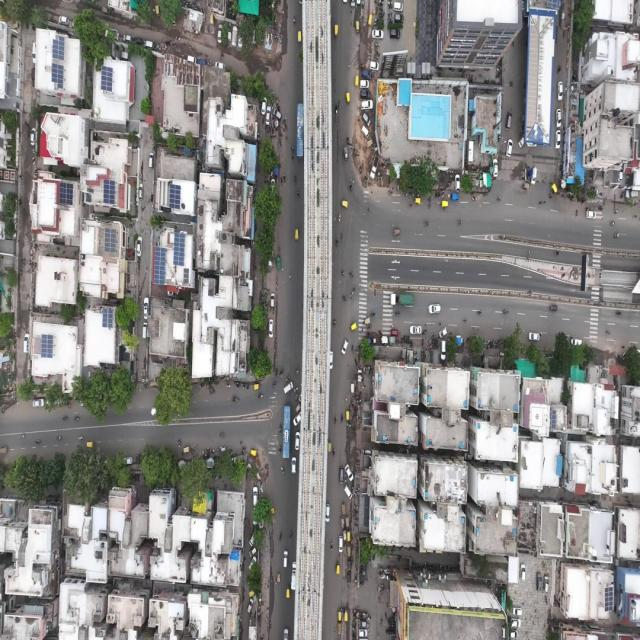3W: (547, 301, 561, 317), (344, 541, 354, 562), (353, 16, 362, 35), (293, 224, 302, 242), (341, 196, 351, 212), (336, 556, 342, 580), (333, 20, 341, 38), (365, 11, 373, 29), (412, 192, 422, 206), (208, 12, 216, 29), (440, 198, 449, 213), (285, 582, 292, 601), (344, 88, 351, 107), (251, 446, 259, 462), (340, 500, 348, 516), (296, 24, 303, 42), (552, 180, 558, 200), (345, 404, 350, 427), (336, 606, 343, 622), (346, 569, 351, 591), (252, 381, 261, 393), (336, 620, 342, 638), (326, 440, 333, 455), (363, 314, 371, 327), (346, 528, 352, 544), (344, 608, 350, 624), (347, 555, 352, 574), (84, 439, 94, 448), (182, 445, 191, 455), (350, 319, 356, 333), (344, 516, 351, 528), (354, 68, 358, 89), (247, 590, 255, 600)
Cars: (135, 232, 145, 260), (505, 137, 515, 163), (623, 186, 639, 202), (555, 74, 564, 101), (31, 395, 46, 411), (28, 124, 38, 148), (439, 338, 448, 364), (504, 109, 514, 132), (329, 347, 338, 372), (408, 322, 422, 338), (142, 38, 156, 54), (143, 294, 150, 324), (428, 303, 443, 317), (568, 333, 583, 347), (361, 112, 374, 128), (185, 50, 198, 66), (392, 10, 406, 24), (121, 452, 134, 467), (359, 98, 374, 111), (57, 14, 70, 29), (343, 483, 353, 502), (360, 123, 370, 142), (264, 103, 271, 129), (389, 26, 399, 44), (214, 56, 226, 71), (266, 316, 274, 338), (368, 56, 379, 72), (196, 48, 207, 64), (338, 462, 345, 487), (527, 329, 540, 342), (370, 26, 384, 38), (555, 105, 563, 126), (275, 253, 282, 276), (147, 153, 155, 173), (436, 326, 448, 339), (358, 75, 370, 88), (584, 206, 597, 218), (283, 382, 294, 396), (337, 531, 344, 553), (116, 50, 130, 61), (346, 463, 354, 482), (324, 500, 330, 525), (282, 544, 288, 569), (492, 153, 498, 178), (138, 182, 145, 203), (231, 26, 238, 47), (142, 322, 148, 346), (360, 88, 372, 100), (453, 174, 461, 192), (532, 165, 538, 189), (358, 627, 369, 640), (292, 414, 302, 428), (290, 455, 297, 475), (282, 620, 289, 640), (33, 36, 38, 64), (294, 430, 300, 453), (30, 65, 36, 88), (616, 170, 624, 187), (247, 556, 256, 571), (272, 107, 281, 122), (341, 338, 348, 357), (252, 484, 258, 506), (390, 326, 402, 337), (556, 127, 562, 149), (217, 24, 223, 46), (247, 598, 254, 616), (260, 94, 266, 115), (270, 292, 276, 312), (356, 618, 368, 628), (393, 2, 403, 14), (362, 70, 374, 80), (518, 131, 524, 151), (248, 546, 258, 557), (120, 33, 132, 42), (248, 534, 256, 547), (23, 333, 27, 358), (133, 33, 143, 43)
LCV: (367, 153, 380, 185)
M2W: (327, 535, 336, 554), (72, 410, 82, 426), (612, 228, 622, 244), (390, 306, 403, 318), (223, 379, 233, 394), (454, 215, 466, 227), (62, 413, 72, 427), (231, 391, 241, 405), (474, 304, 484, 318), (338, 406, 344, 429), (279, 462, 286, 481), (334, 232, 340, 254), (346, 182, 356, 195), (495, 194, 505, 207), (331, 316, 339, 332), (339, 290, 348, 304), (339, 265, 346, 283), (332, 412, 338, 432), (500, 305, 510, 317), (16, 432, 25, 445), (552, 246, 561, 259), (609, 217, 618, 230), (218, 426, 226, 440), (288, 528, 295, 544), (281, 170, 288, 186), (602, 327, 613, 337), (369, 309, 378, 321), (424, 219, 432, 232), (232, 377, 240, 390), (334, 102, 340, 119), (32, 438, 43, 447), (332, 444, 338, 460), (295, 188, 301, 204), (292, 171, 298, 187), (293, 364, 300, 377), (53, 433, 63, 442), (279, 174, 285, 189), (278, 366, 284, 380), (350, 285, 356, 299), (77, 433, 85, 443), (277, 418, 282, 434), (337, 210, 342, 226), (348, 266, 354, 278), (272, 376, 277, 390), (278, 442, 282, 458), (257, 392, 264, 401)
Truck: (389, 290, 416, 310)
